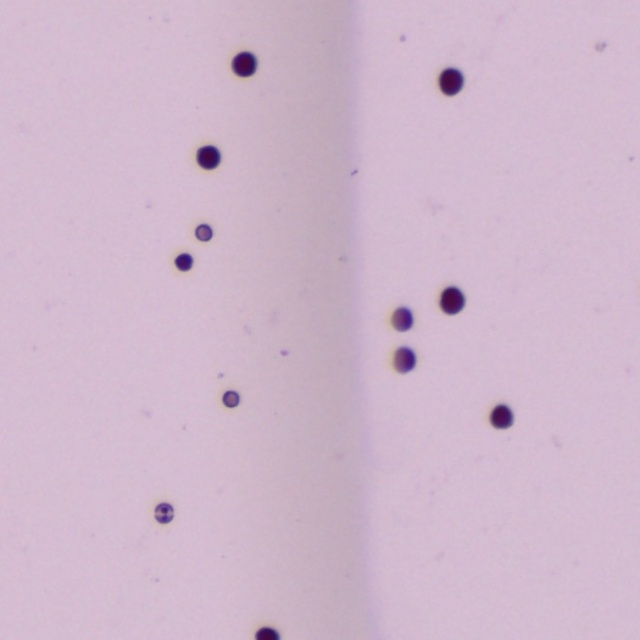intermediate: (394, 347, 415, 371), (155, 502, 172, 523), (195, 223, 212, 240), (222, 390, 239, 407)
non_viable: (392, 307, 412, 330)
viable: (440, 286, 463, 313), (439, 68, 462, 94), (233, 52, 256, 76), (197, 146, 220, 168), (490, 405, 512, 427), (174, 253, 192, 269), (256, 628, 278, 639)
